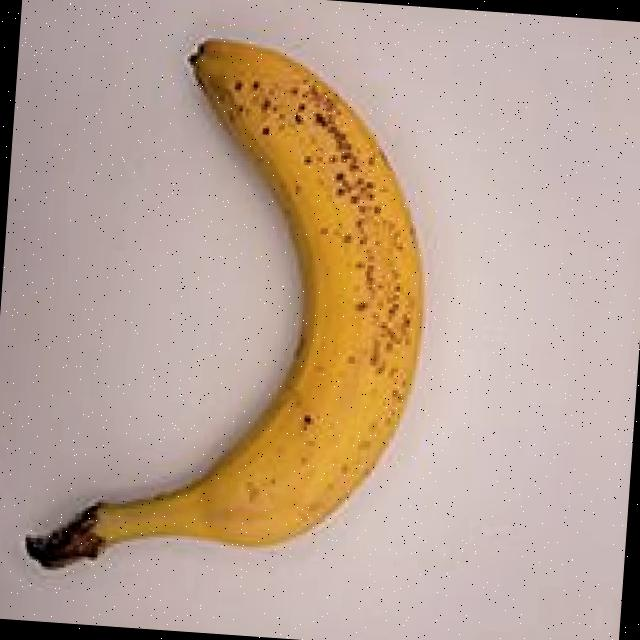Overripe: (27, 0, 468, 609)
